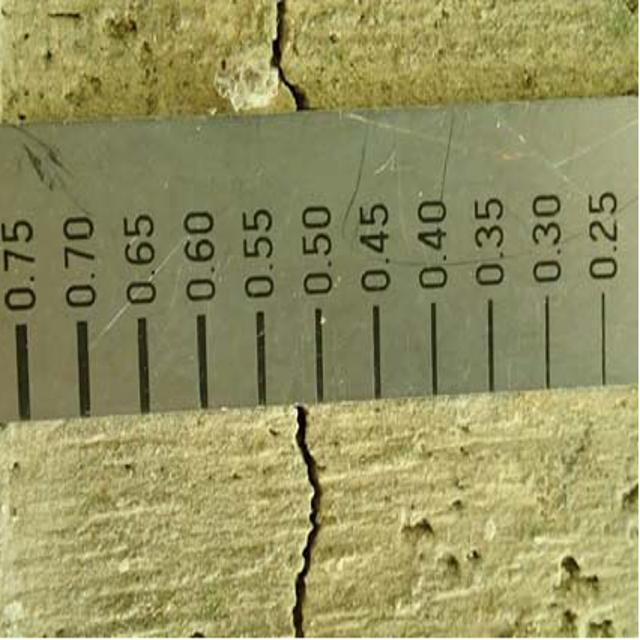crack: (280, 414, 329, 636), (256, 6, 317, 111)
